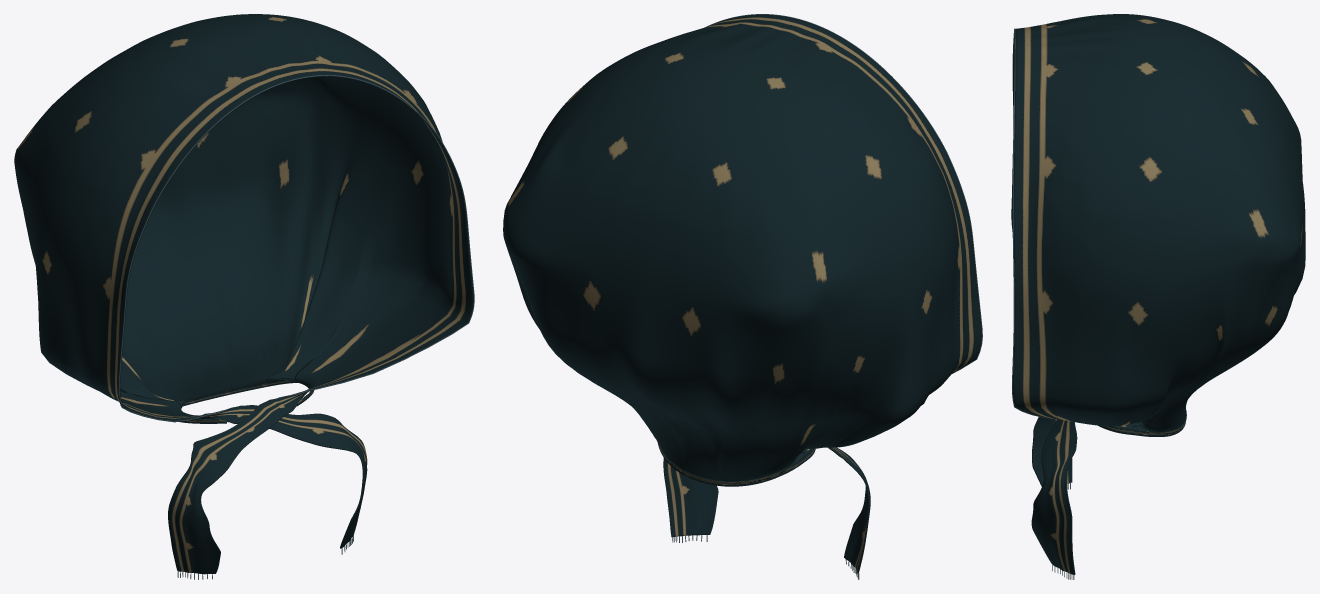
File: Feminine-space-buns-tank-pashmina249-headgear.glb
3 renders of one model, left to right at view 1: azimuth 30°, elevation 25°; view 2: azimuth 150°, elevation 25°; view 3: azimuth 270°, elevation 25°, orthographic. The views are drawn at different scales.
Visible parts, largest first — view 1: 226 headgear / Headwear / continuous woven pashmina239, 226 headgear / Headwear / face edge239; view 2: 226 headgear / Headwear / continuous woven pashmina239, 226 headgear / Headwear / face edge239; view 3: 226 headgear / Headwear / continuous woven pashmina239, 226 headgear / Headwear / face edge239.
Boxes of the visible parts, left/top/right/bottom form: 226 headgear / Headwear / continuous woven pashmina239: left=14, top=14, right=473, bottom=574; 226 headgear / Headwear / face edge239: left=118, top=75, right=474, bottom=422; 226 headgear / Headwear / continuous woven pashmina239: left=503, top=14, right=981, bottom=573; 226 headgear / Headwear / face edge239: left=704, top=14, right=982, bottom=373; 226 headgear / Headwear / continuous woven pashmina239: left=1011, top=14, right=1305, bottom=574; 226 headgear / Headwear / face edge239: left=1011, top=28, right=1050, bottom=418.
Bounding box in the file's own units: 1.05 × 1.36 × 0.7241.
3 materials, 1 textured.
